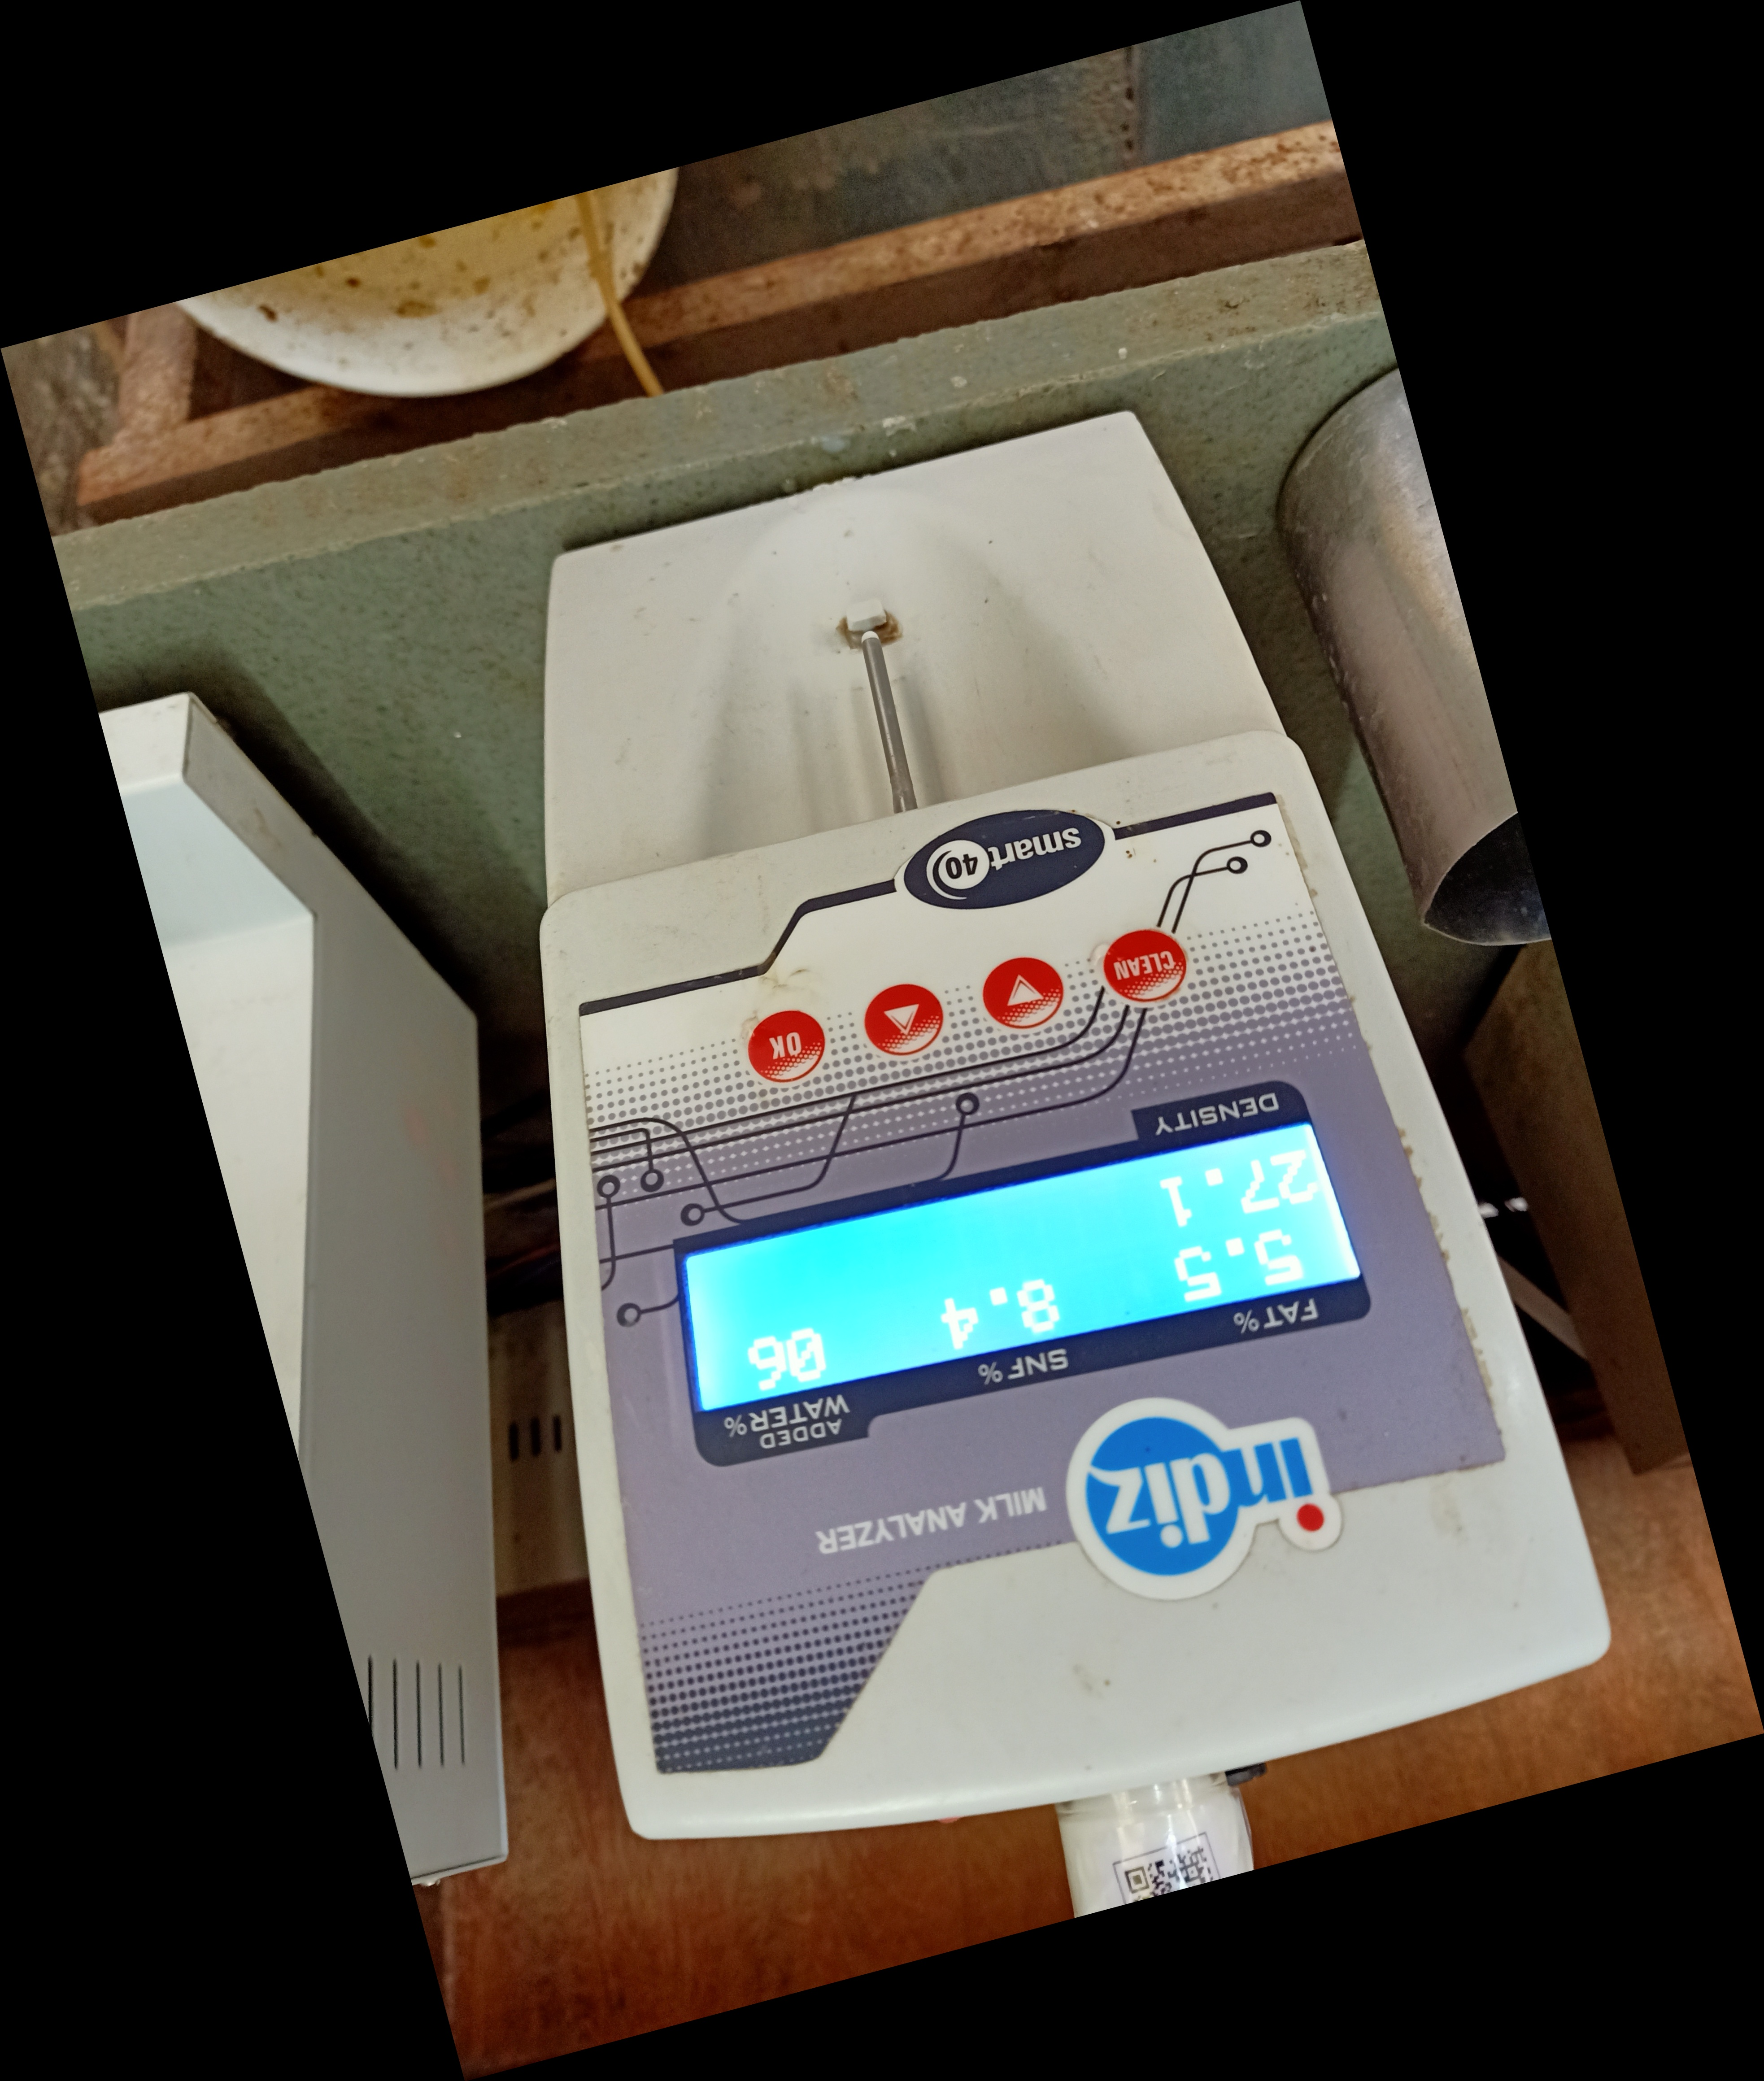lcd: (679, 1097, 1381, 1451)
